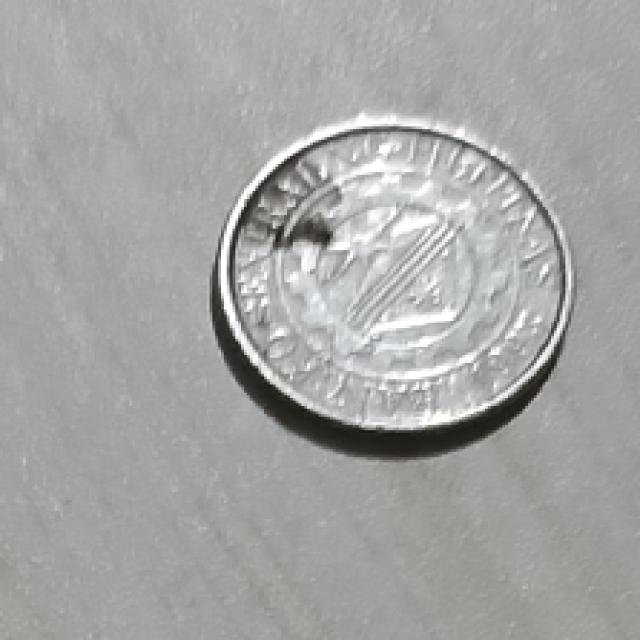1_peso: (215, 118, 568, 430)
